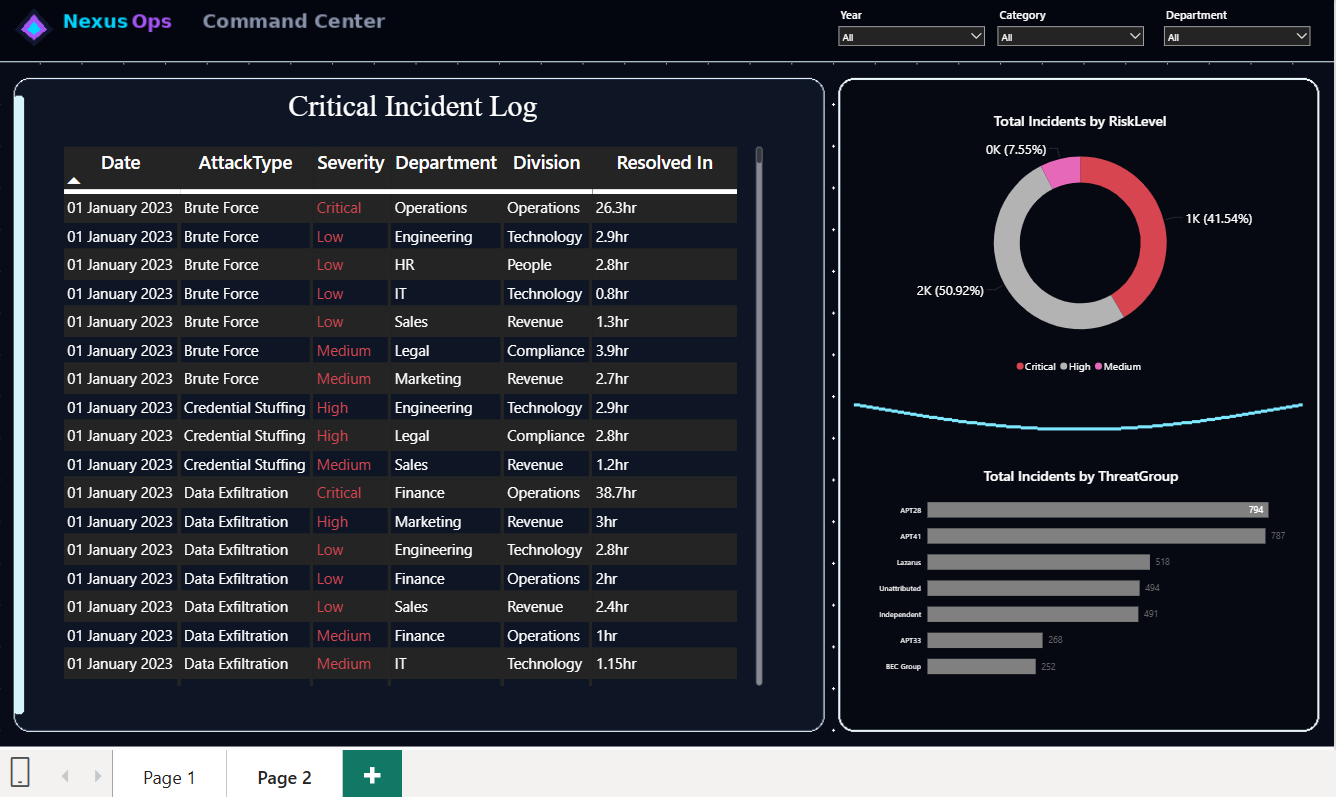

The dashboard page shown, as its layout file describes it:
{"tool":"powerbi","page":{"name":"Page 2","canvas":[1920,1080],"ordinal":1},"visuals":[{"type":"tableEx","fields":{"Values":["dim_date.YearMonth","dim_attack_type.AttackType","dim_severity.Severity","dim_department.Department","dim_department.Division","DAX Formula.Resolved In"]},"box":[77.7,198.5,1037.6,804.6],"z":0},{"type":"donutChart","fields":{"Category":["dim_attack_type.RiskLevel"],"Y":["DAX Formula.Total Incidents"]},"box":[1221,146.7,670.9,412],"z":1},{"type":"barChart","title":"Total Incidents by ThreatGroup","fields":{"Category":["dim_attack_source.ThreatGroup"],"Y":["DAX Formula.Total Incidents"]},"box":[1244.7,657.9,625.6,345.1],"z":2},{"type":"textbox","box":[77.7,129.4,1037.6,69],"z":3},{"type":"slicer","fields":{"Values":["dim_department.Department"]},"box":[1671.3,11.5,220.5,59.9],"z":4},{"type":"slicer","fields":{"Values":["dim_attack_type.Category"]},"box":[1431.9,11.5,220.5,59.9],"z":5},{"type":"slicer","fields":{"Values":["dim_date.Year"]},"box":[1203.5,11.5,220.5,59.9],"z":6}]}

Visuals, with their boxes on the page's 1920x1080 design canvas (x1, y1, x2, y2). These are canvas units, not pixel positions in the 1336x797 screenshot, which may show the page scaled, cropped or inside an application window:
tableEx - dim_date.YearMonth x dim_attack_type.AttackType: bbox=[78, 198, 1115, 1003]
donutChart - dim_attack_type.RiskLevel x DAX Formula.Total Incidents: bbox=[1221, 147, 1892, 559]
"Total Incidents by ThreatGroup" barChart: bbox=[1245, 658, 1870, 1003]
textbox: bbox=[78, 129, 1115, 198]
slicer - dim_department.Department: bbox=[1671, 12, 1892, 71]
slicer - dim_attack_type.Category: bbox=[1432, 12, 1652, 71]
slicer - dim_date.Year: bbox=[1204, 12, 1424, 71]
